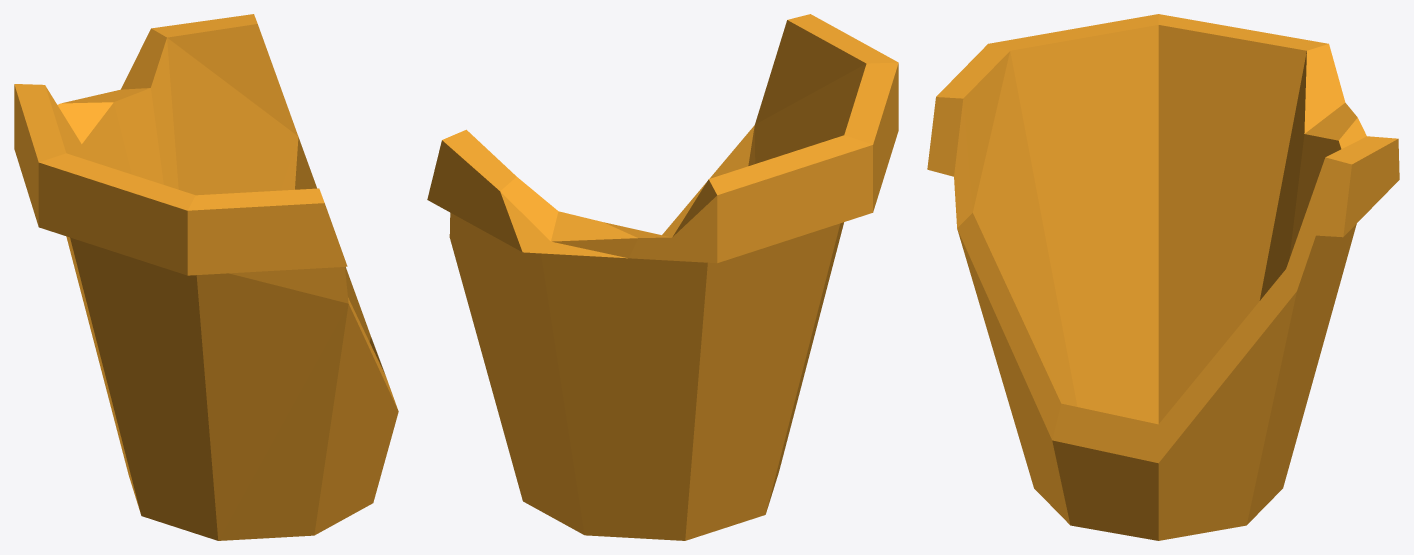
File: SM_Pot_Clay_Broken_B.fbx
3 views of the same model, side by side, from view 1: azimuth 30°, elevation 25°; view 2: azimuth 150°, elevation 25°; view 3: azimuth 270°, elevation 25° (orthographic). The views are drawn at different scales.
Parts seen in each view (by area): view 1: pot-clay-broken-b; view 2: pot-clay-broken-b; view 3: pot-clay-broken-b.
Boxes of the visible parts, <box> form: pot-clay-broken-b: <box>14,14,398,540</box>; pot-clay-broken-b: <box>427,14,898,540</box>; pot-clay-broken-b: <box>927,14,1399,540</box>.
Size of the model in its own units: 0.1699 by 0.1802 by 0.2057.
